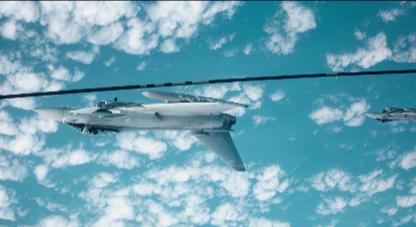E2: (32, 91, 249, 172), (363, 107, 415, 136)
